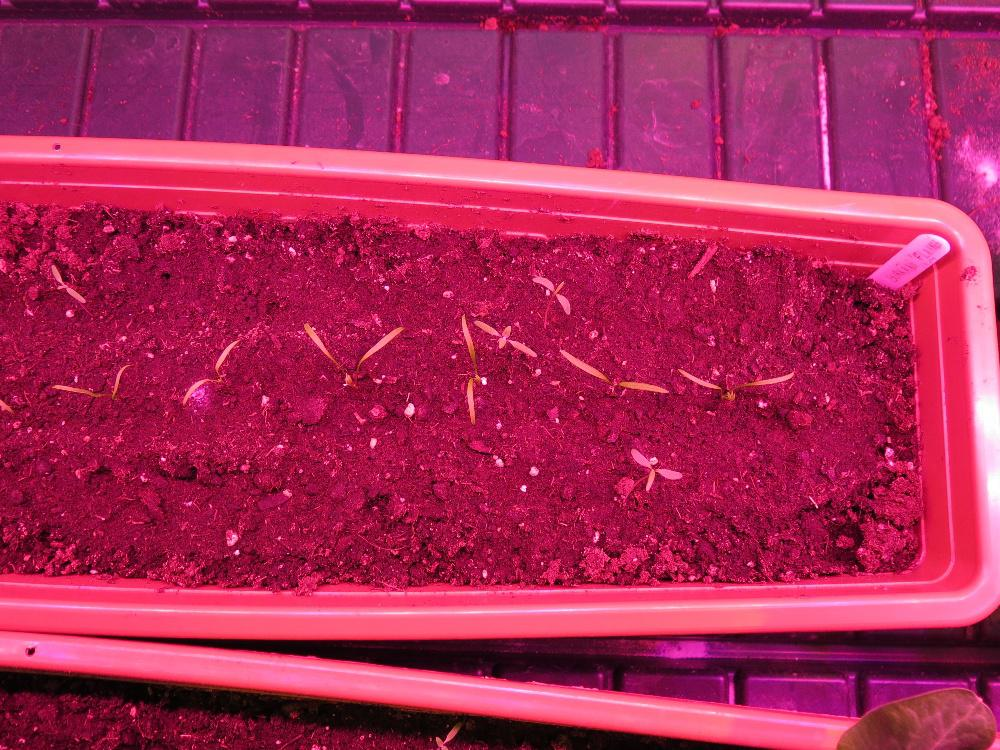crop: (300, 320, 405, 389), (556, 346, 669, 395), (674, 365, 797, 402), (179, 337, 239, 410), (49, 360, 134, 403)
weed: (629, 445, 683, 493), (472, 318, 536, 357), (529, 273, 570, 314), (49, 262, 86, 306)
